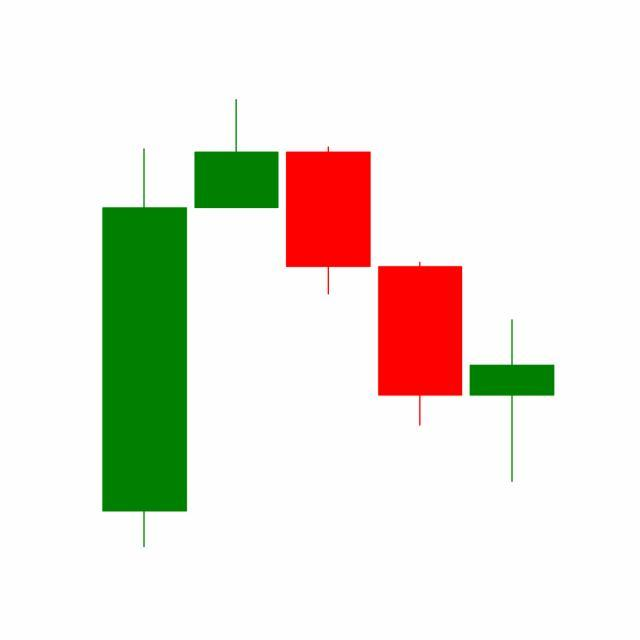Spinning Top: (466, 317, 559, 484)
